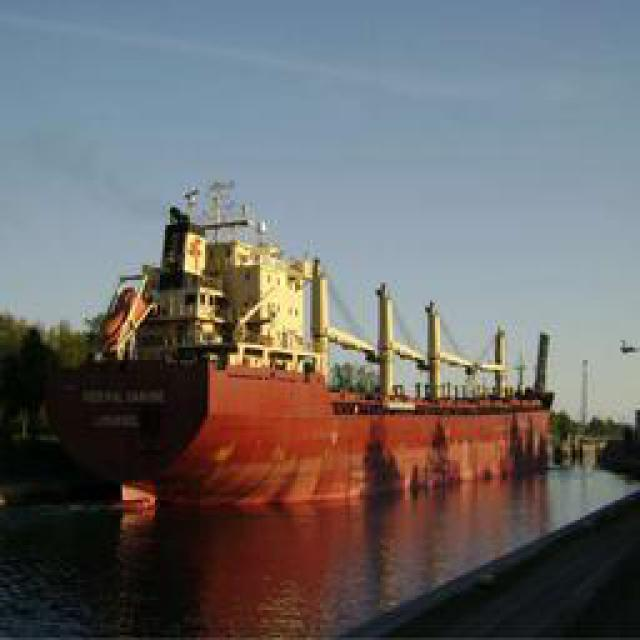Ship: (35, 188, 550, 503)
